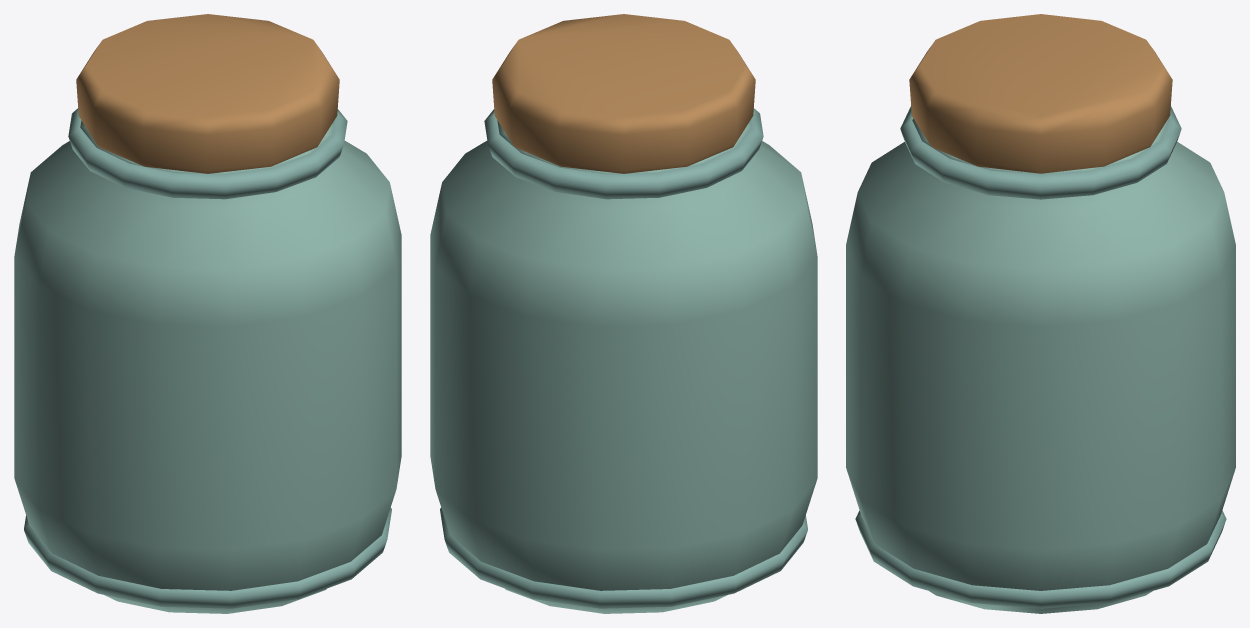
Rendered from button_jar.glb.
The picture shows the model from 3 angles, left to right: view 1: azimuth 30°, elevation 25°; view 2: azimuth 150°, elevation 25°; view 3: azimuth 270°, elevation 25°; orthographic projection.
Parts seen in each view (by area): view 1: button_jar; view 2: button_jar; view 3: button_jar.
Part boxes in pixels (x1,y1,x2,y2): button_jar: (14, 14, 401, 613); button_jar: (430, 14, 817, 613); button_jar: (846, 14, 1235, 613).
Bounding box in the file's own units: 0.16 × 0.22 × 0.16.
